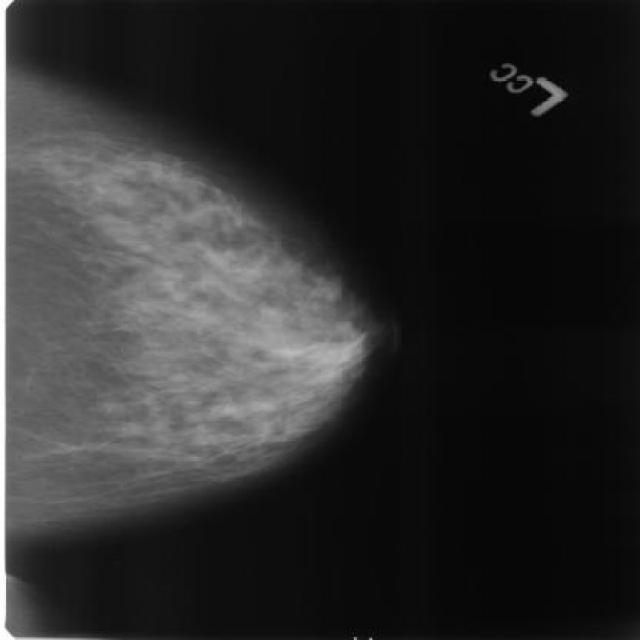tumor: (106, 188, 410, 406)
